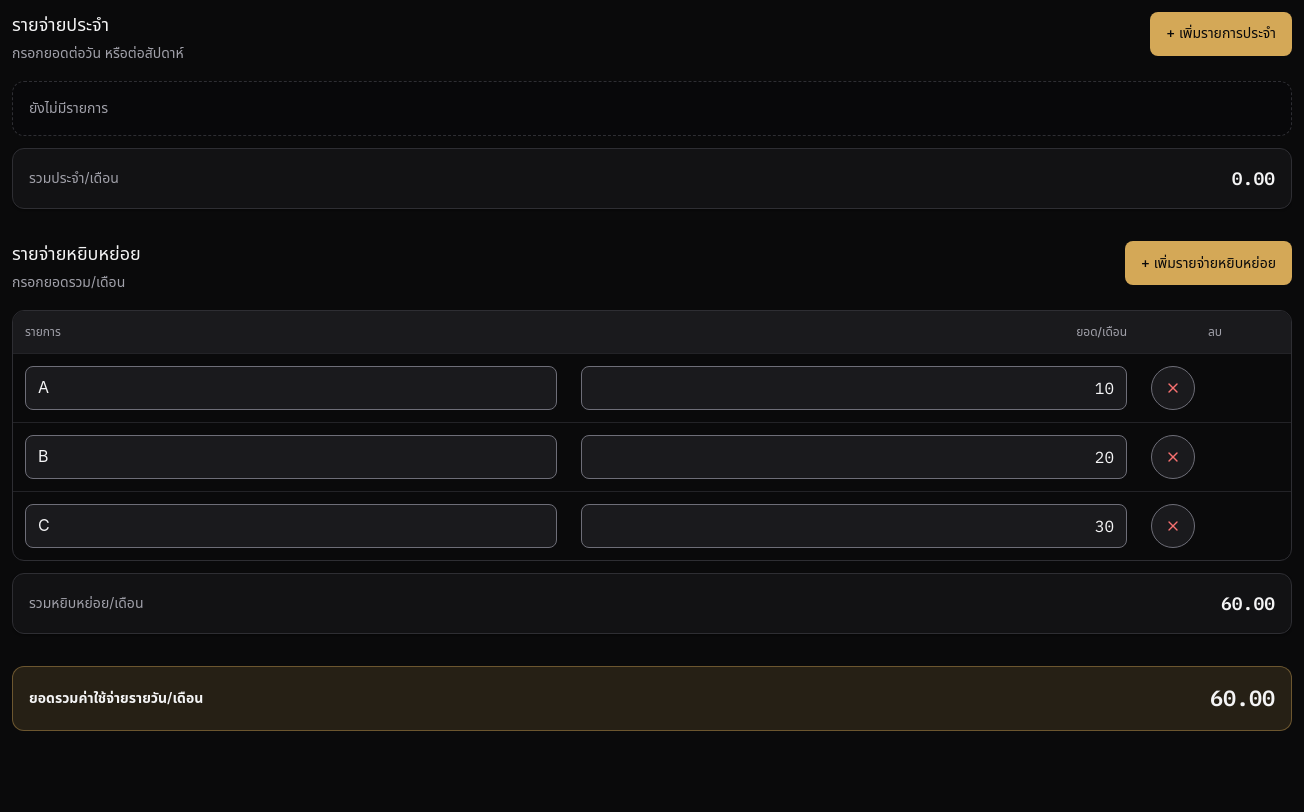
Test case: DailyExpenseTable › K13: deleting the middle row of three removes exactly that row, by identity not index
The width and height of the screenshot is (1304, 812).
Click the button named "ลบ B" at coordinates (1173, 457), box [1151,435,1195,479]
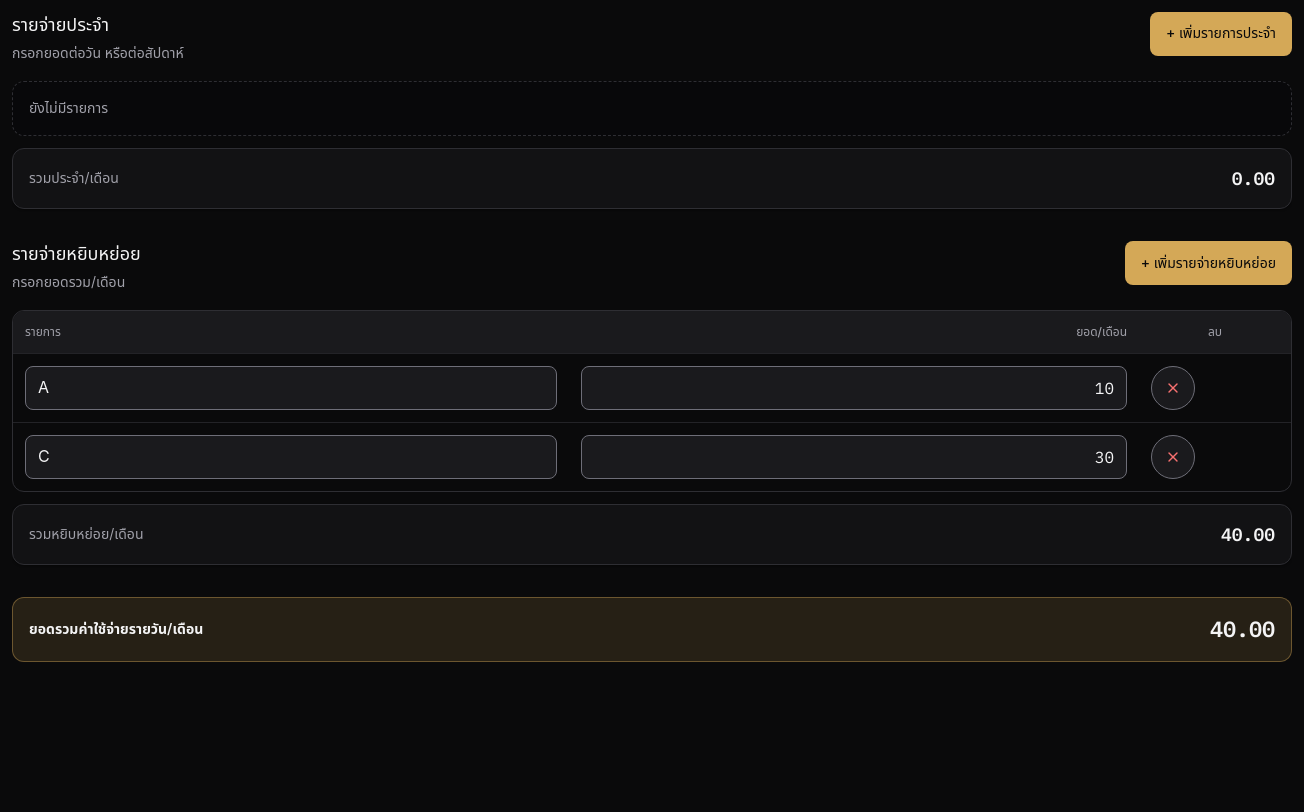
Expected: the field showing "B" is not shown
Now the number of fields showing "A" is 2
Now the number of fields showing "C" is 2
